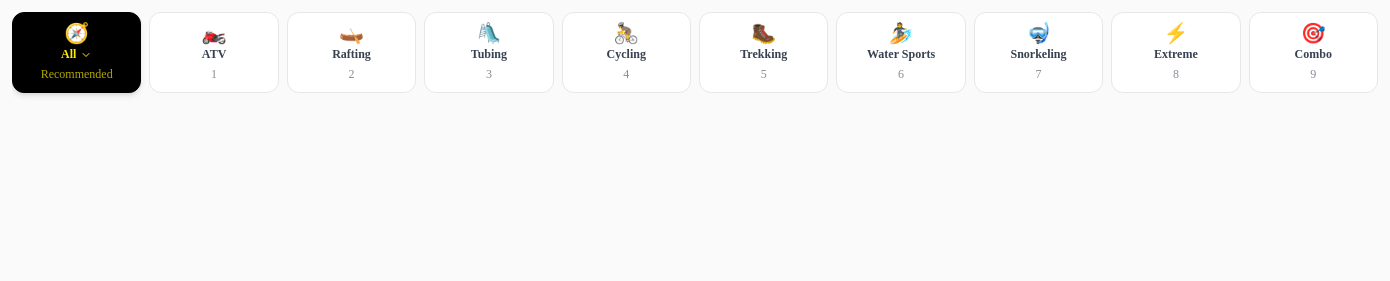
CategoryTiles › applies a sort choice from the menu
Click the button "🧭 All Recommended".
click(77, 52)  # box [12,12,141,93]
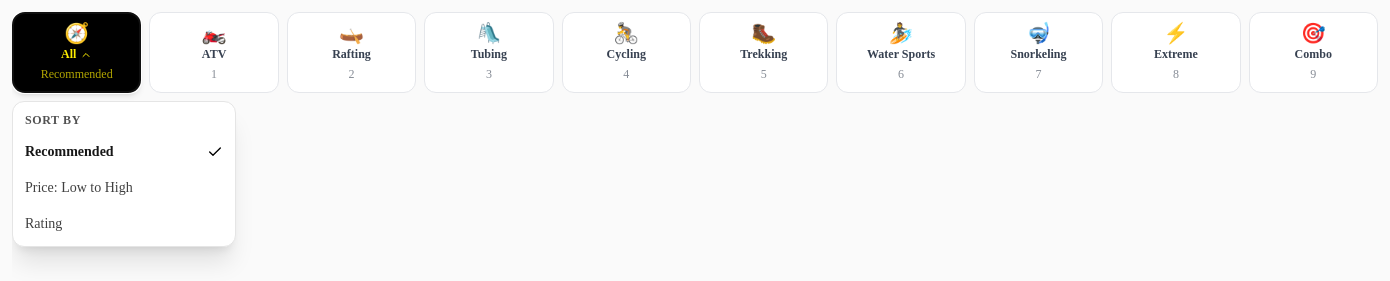
Click the menu item "Rating".
click(124, 224)  # box [13,206,235,242]
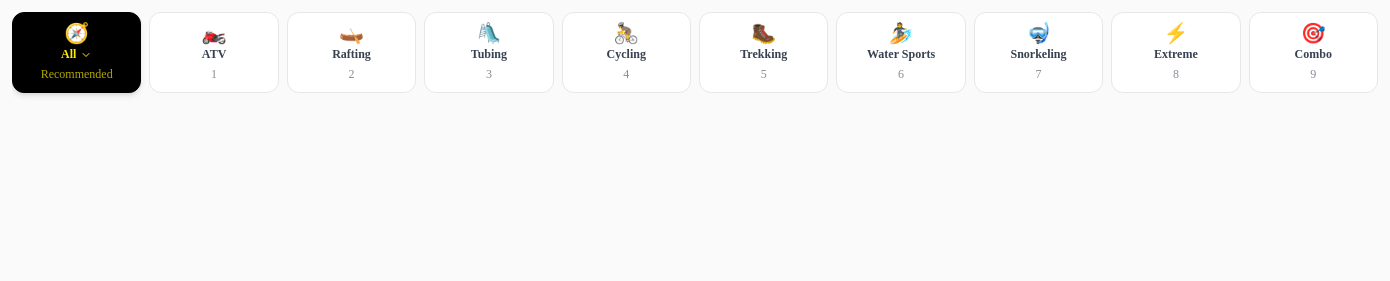
Expected: the menu is gone
